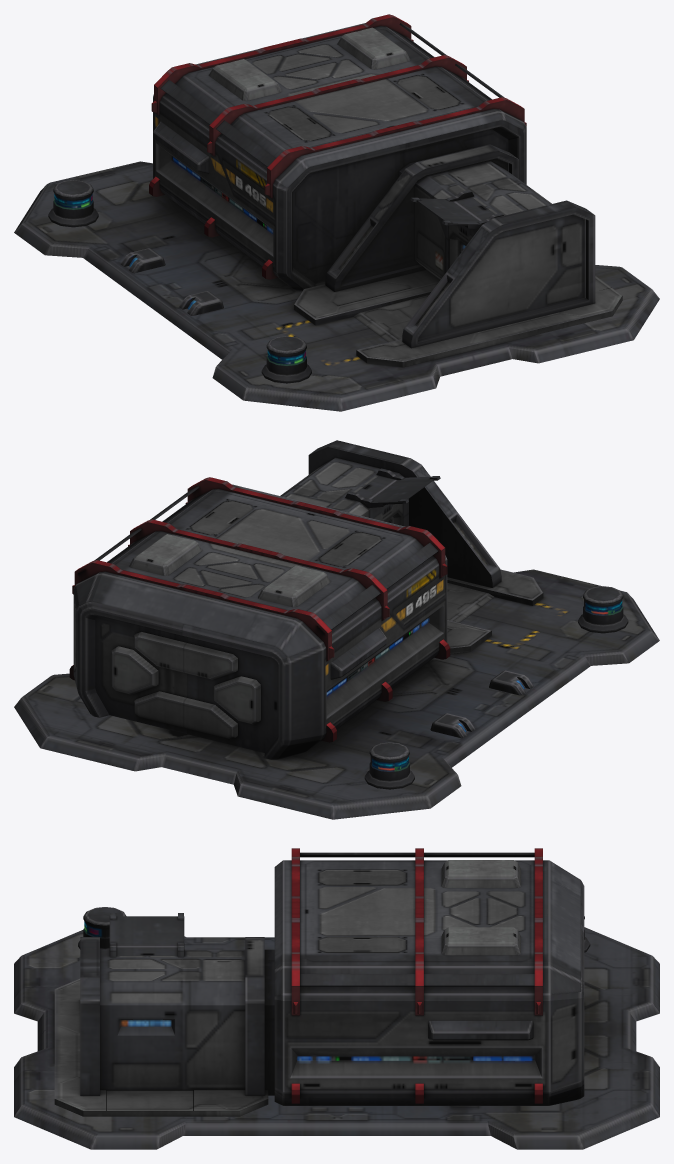
Rendered from Warehouse_Block.FBX.
3 renders of one model, top to bottom at view 1: azimuth 30°, elevation 25°; view 2: azimuth 150°, elevation 25°; view 3: azimuth 270°, elevation 25°, orthographic. The views are drawn at different scales.
Parts seen in each view (by area): view 1: Warehouse_Block; view 2: Warehouse_Block; view 3: Warehouse_Block.
Part boxes in pixels (x1=…): Warehouse_Block: x1=14, y1=14, x2=659, y2=411; Warehouse_Block: x1=14, y1=440, x2=659, y2=819; Warehouse_Block: x1=14, y1=848, x2=659, y2=1149.
Bounding box in the file's own units: 1486 × 509 × 1859.
